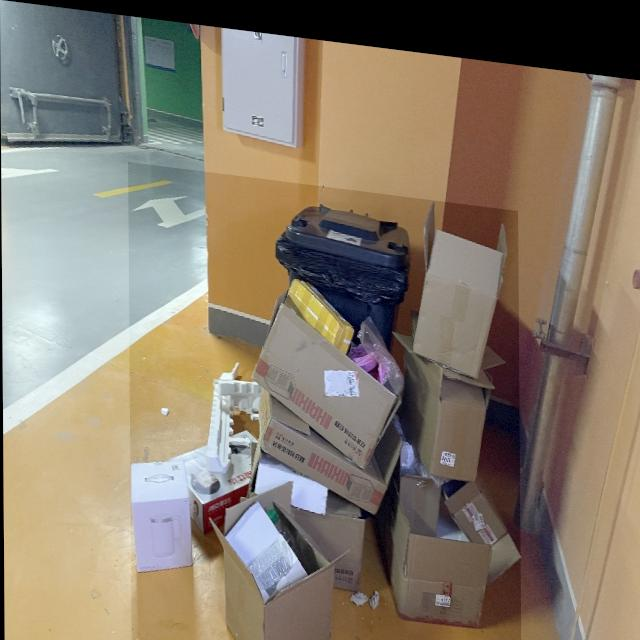garbage: (128, 159, 521, 640)
